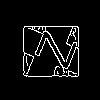Z: (25, 25, 78, 71)
